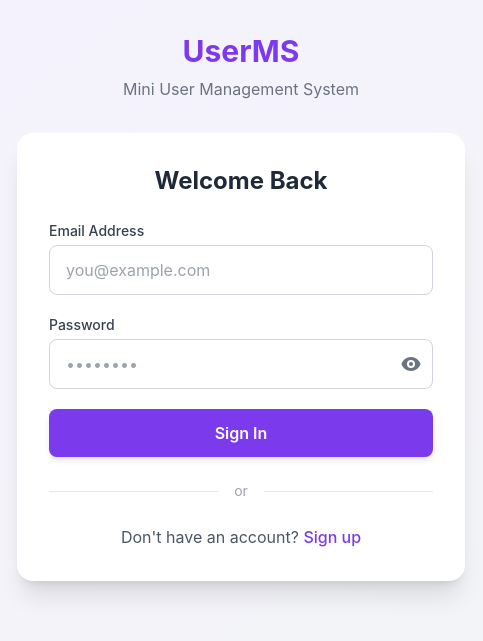
Login Component › shows validation error when email is empty
Click the button "Sign In" at [241, 433], box [49,409,433,457]
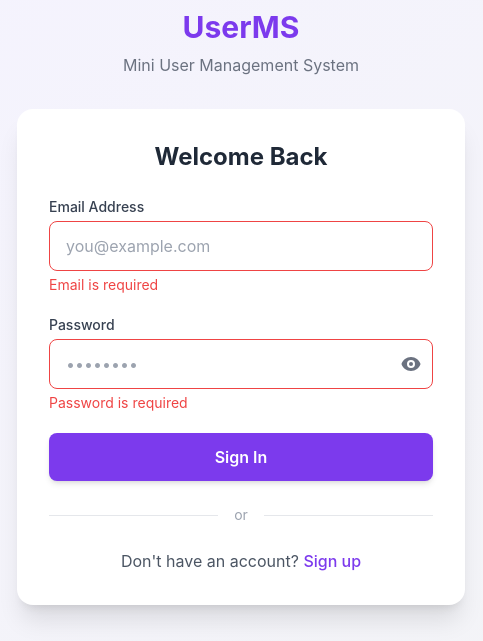
Result: the text "Email is required" is shown at [49,276,158,293]
